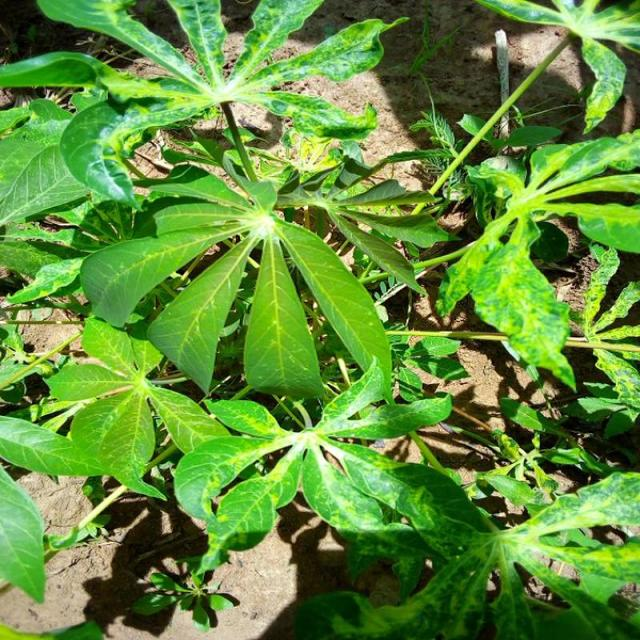cassava leaf: (0, 1, 638, 637), (80, 152, 396, 404), (242, 230, 324, 399)
